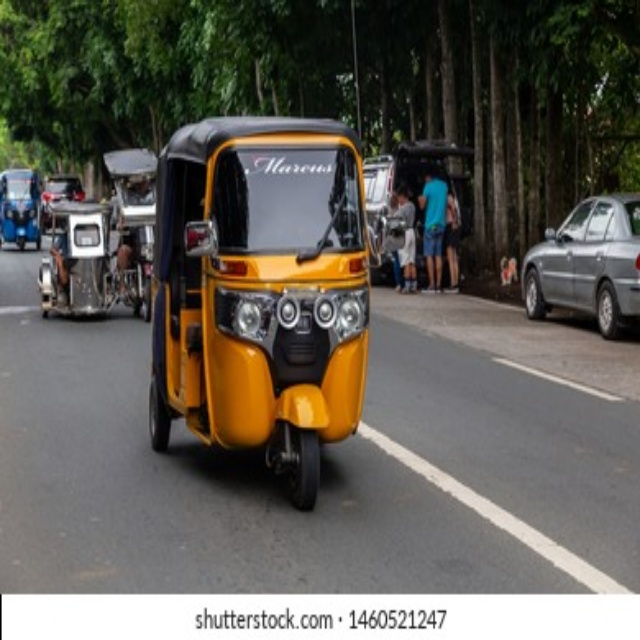Car: (517, 192, 640, 341)
Motorcycle: (148, 114, 371, 512), (2, 167, 43, 254)
